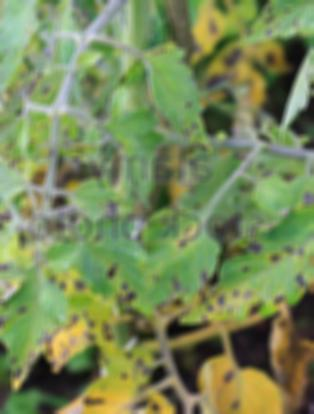Tomato Early blight leaf: (177, 243, 314, 325), (138, 39, 211, 154), (0, 269, 63, 396), (70, 218, 156, 311), (234, 0, 314, 50)
